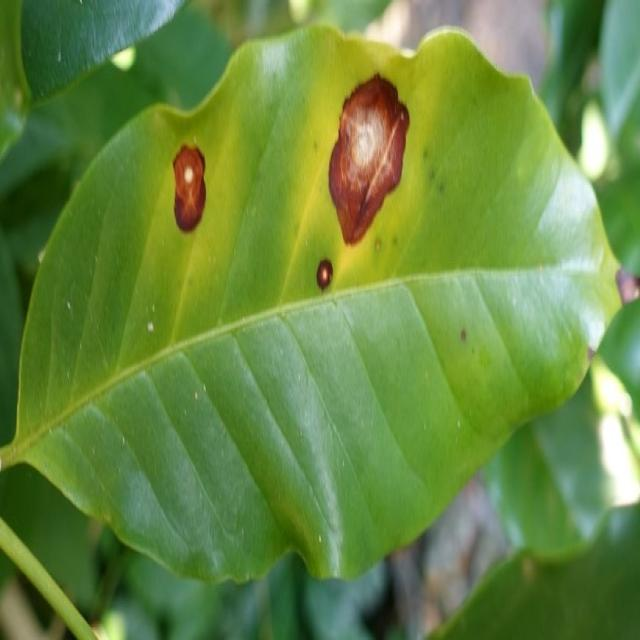Enfermedad-Mancha-de-hierro: (0, 23, 625, 624)
